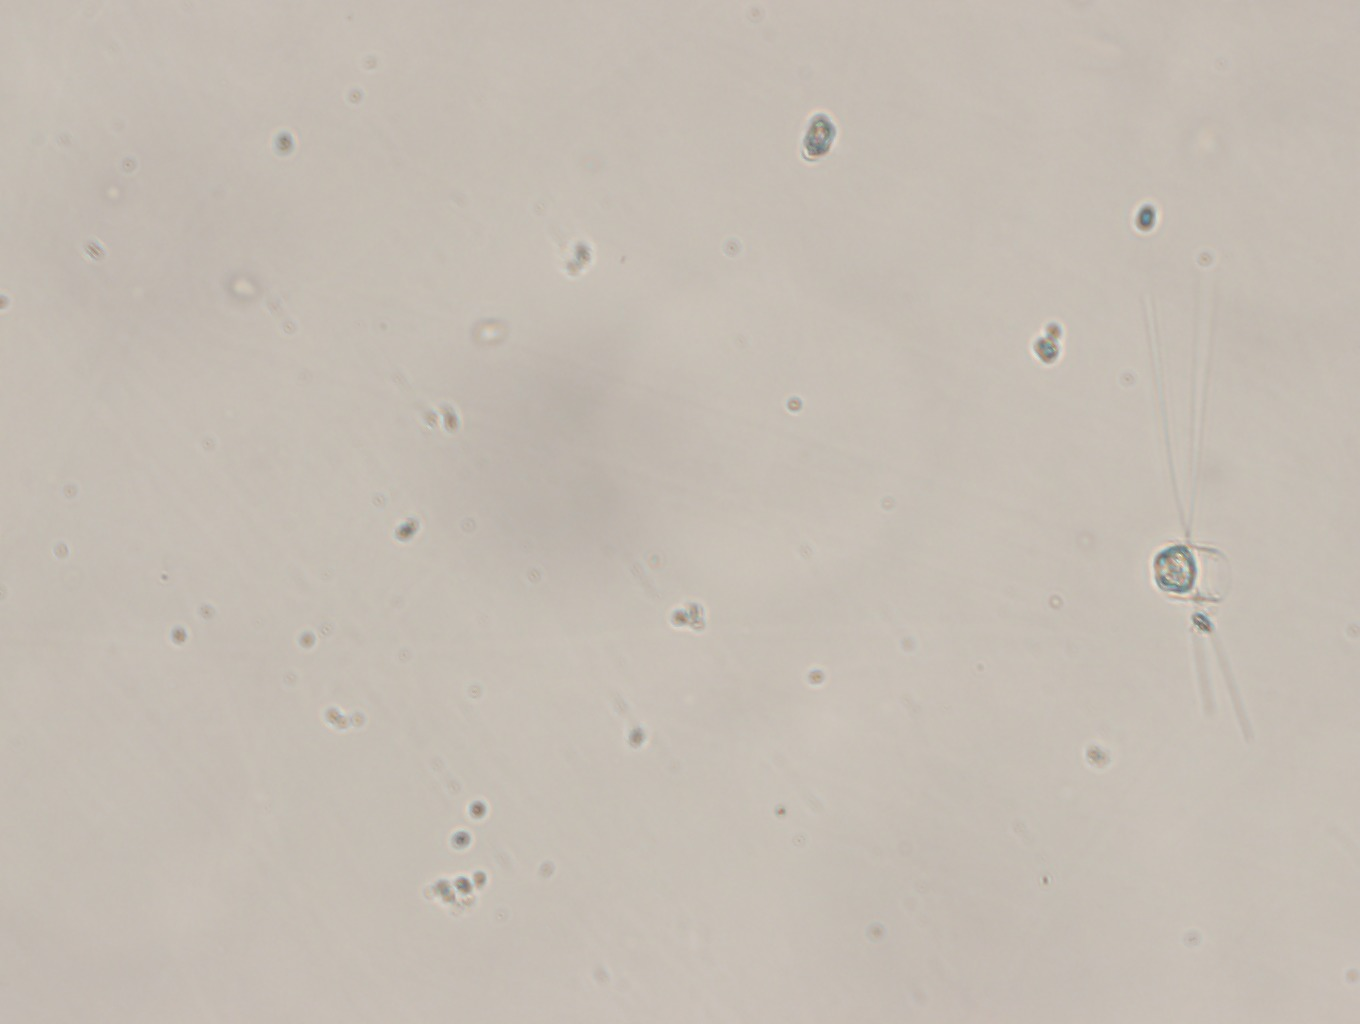chaetoceros: (1103, 262, 1289, 751)
